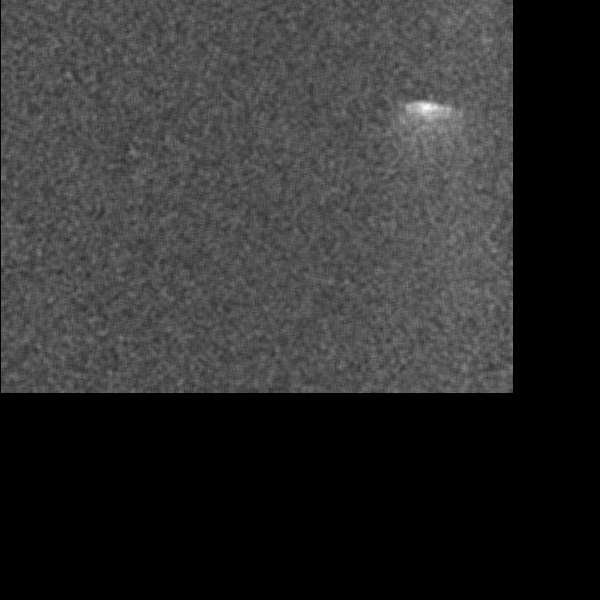spark: (396, 95, 463, 145)
